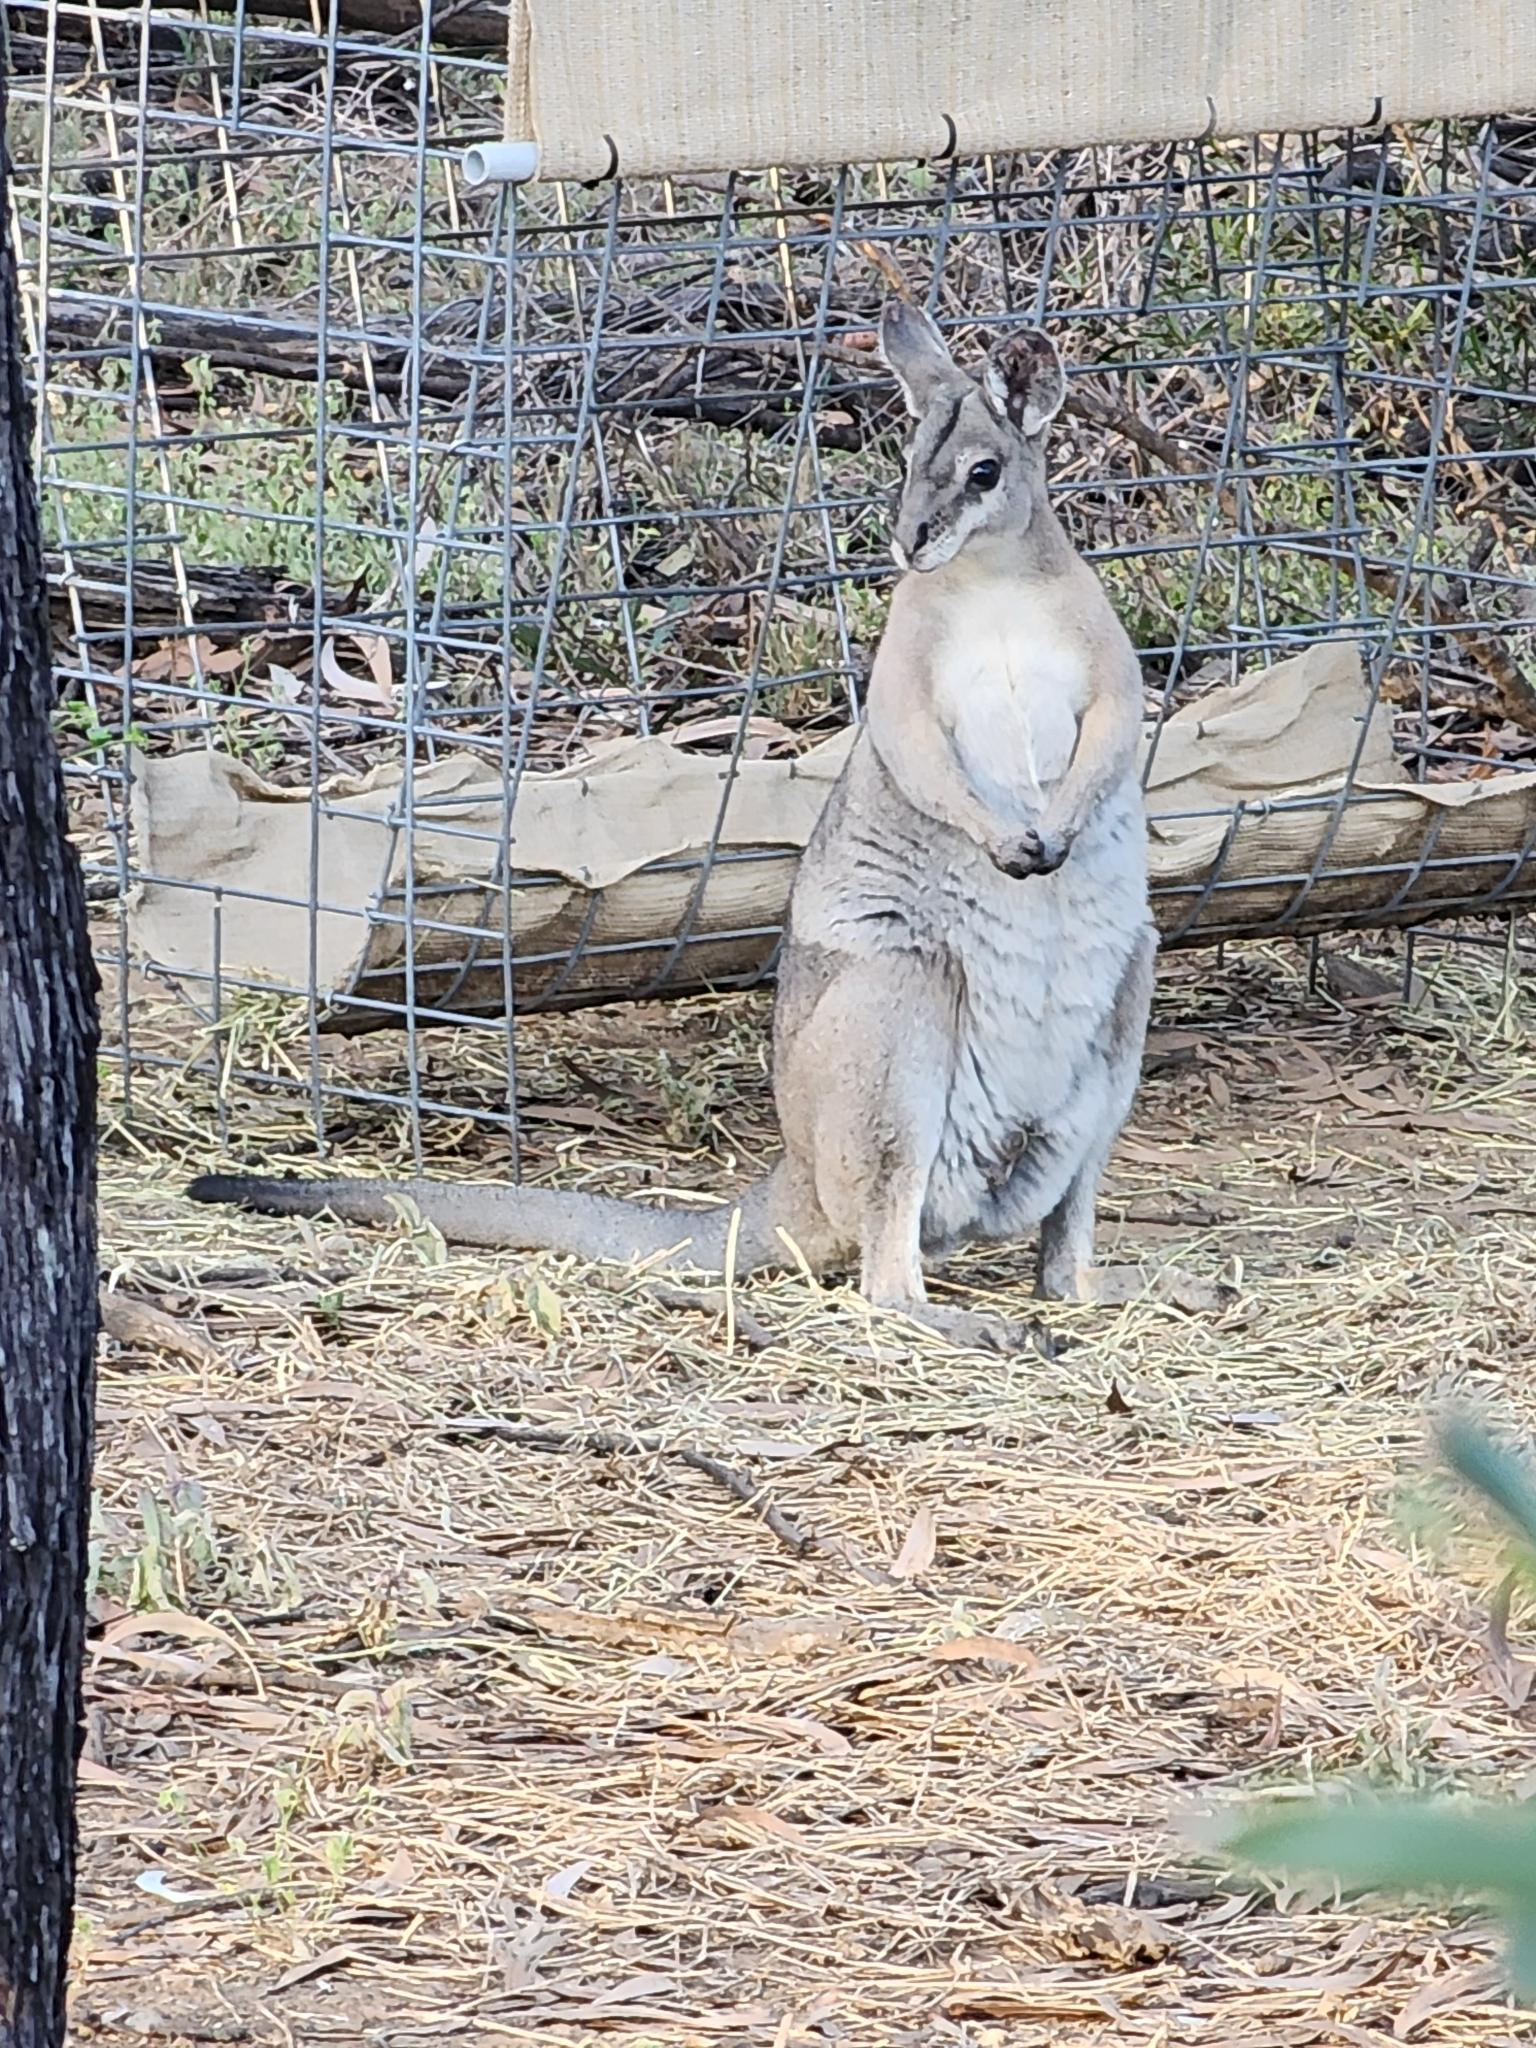Bridled-nail-tail wallaby: (184, 297, 1247, 1353)
